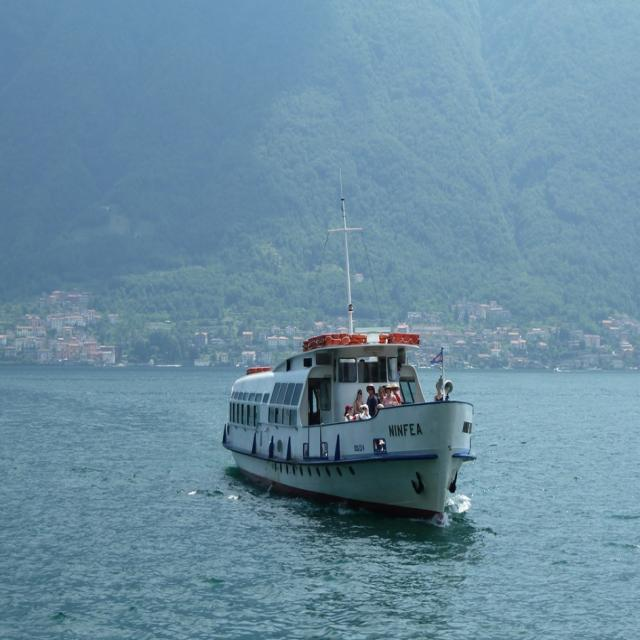fishing boat: (192, 299, 489, 539)
